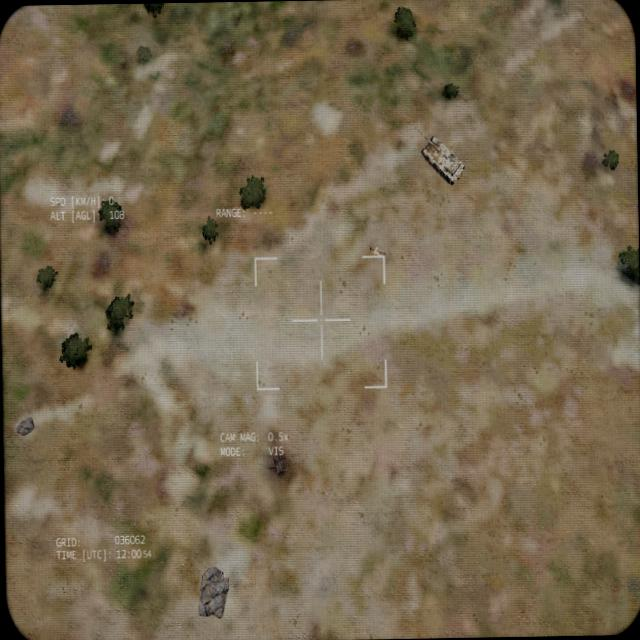tank: (413, 122, 465, 188)
